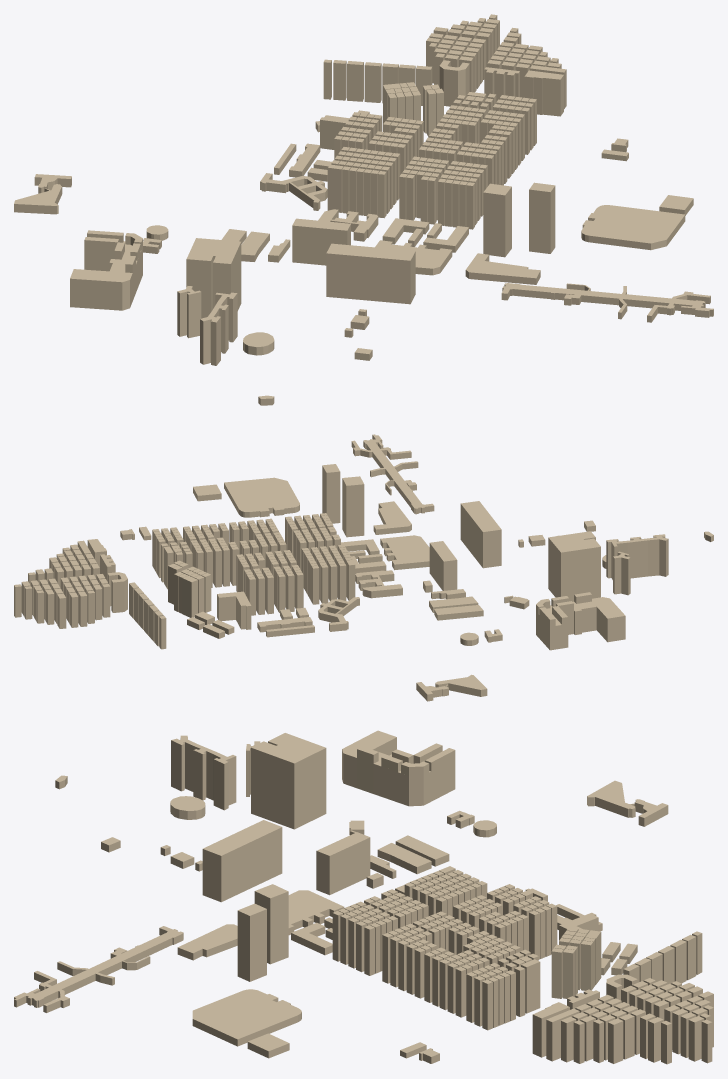
File: -16_3-estimated-coarse.glb
3 views of the same model, one above another, from view 1: azimuth 30°, elevation 25°; view 2: azimuth 150°, elevation 25°; view 3: azimuth 270°, elevation 25° (orthographic). The views are drawn at different scales.
Bounding box in the file's own units: 1095 × 111 × 1066.
